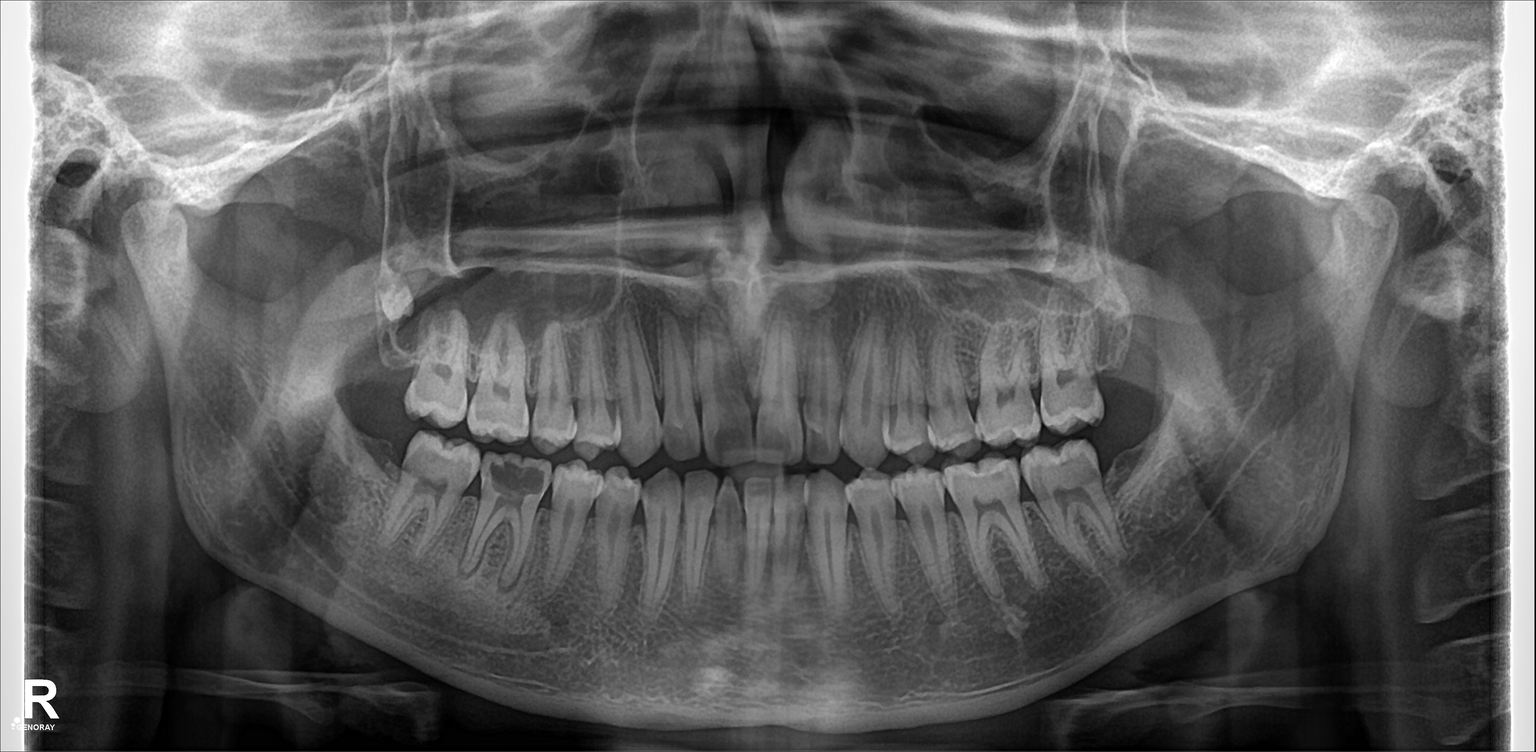Dental Caries: (497, 458, 539, 506)
Missing Tooth: (1102, 313, 1149, 393), (356, 408, 399, 490), (363, 324, 414, 390), (1102, 434, 1150, 486)
